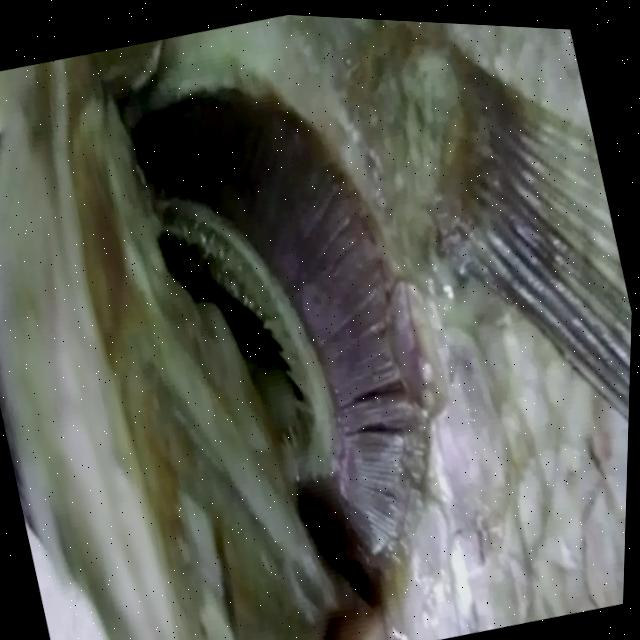Non-Fresh: (106, 34, 493, 630)
